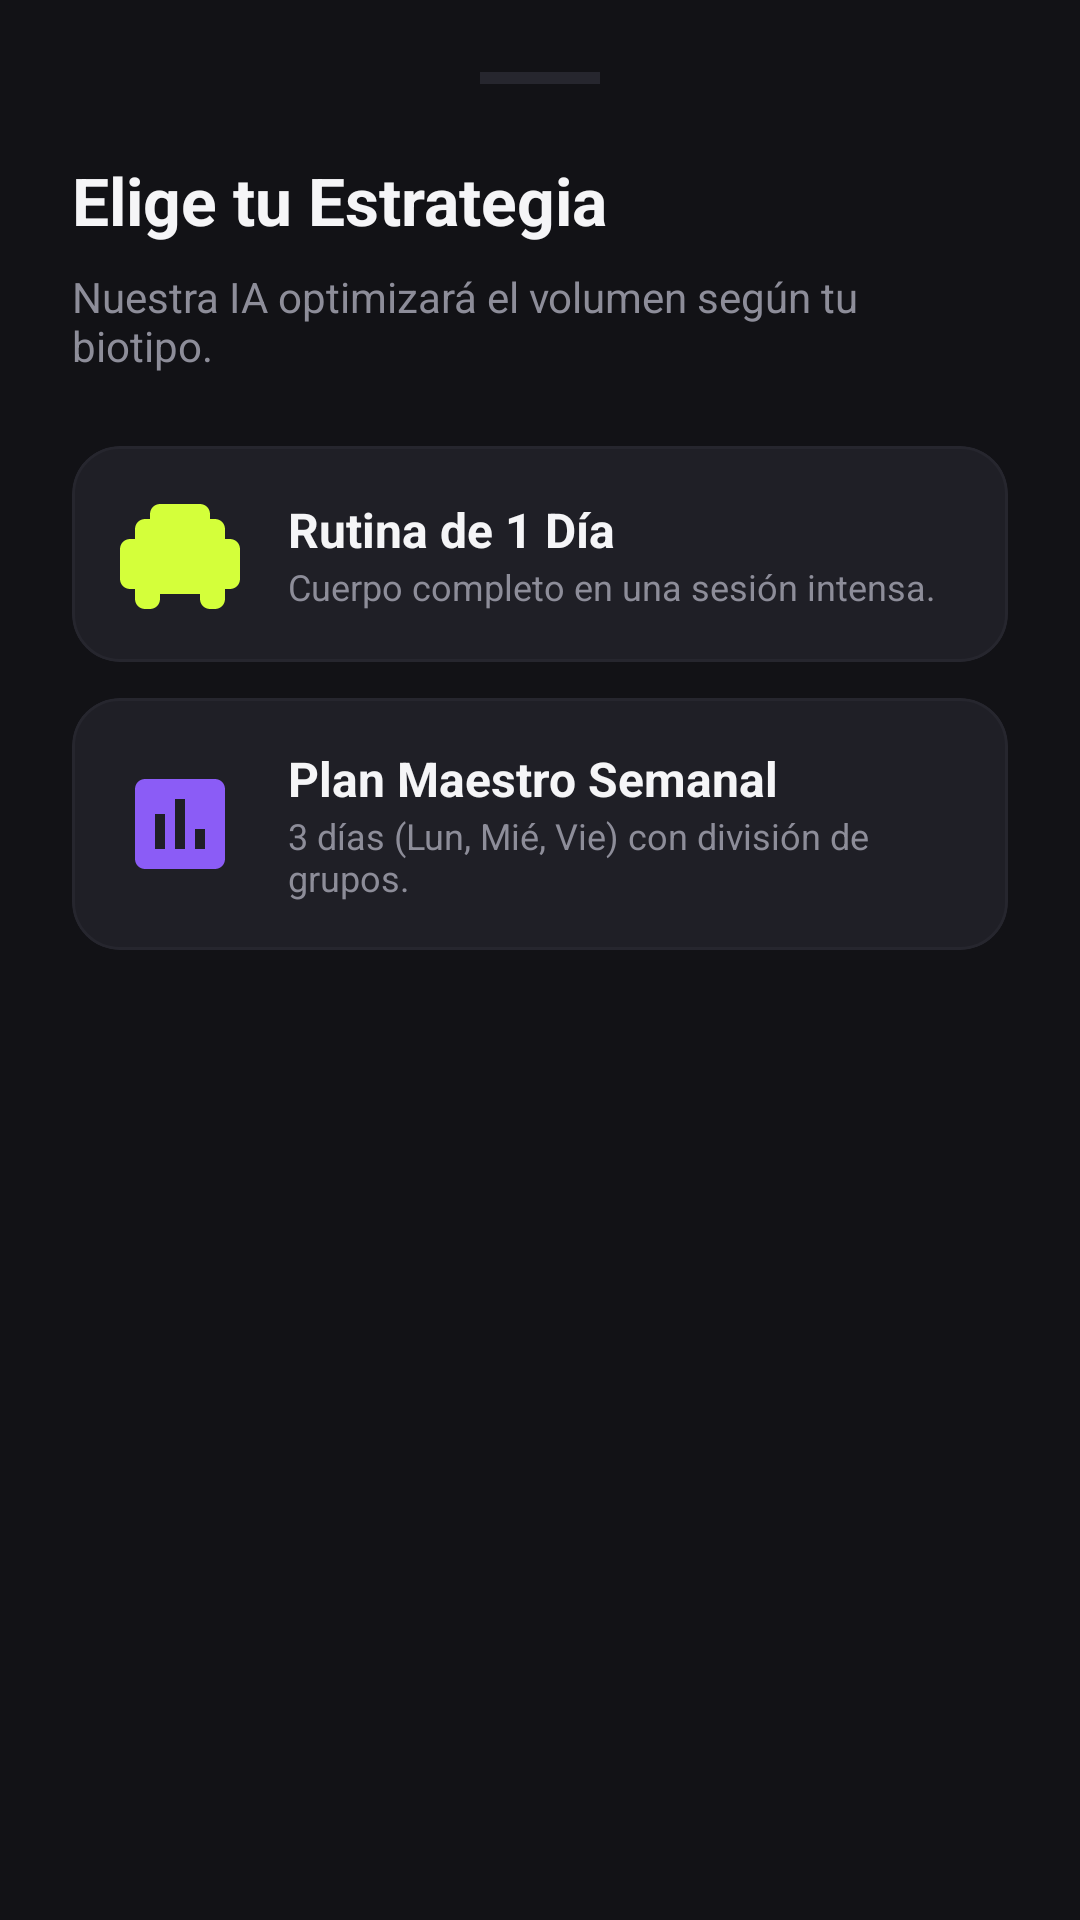

Icons on this 1080×1920 Android screen, each with the point to tap as (x=x, y=y):
Icono Semanal: (x=180, y=824)
